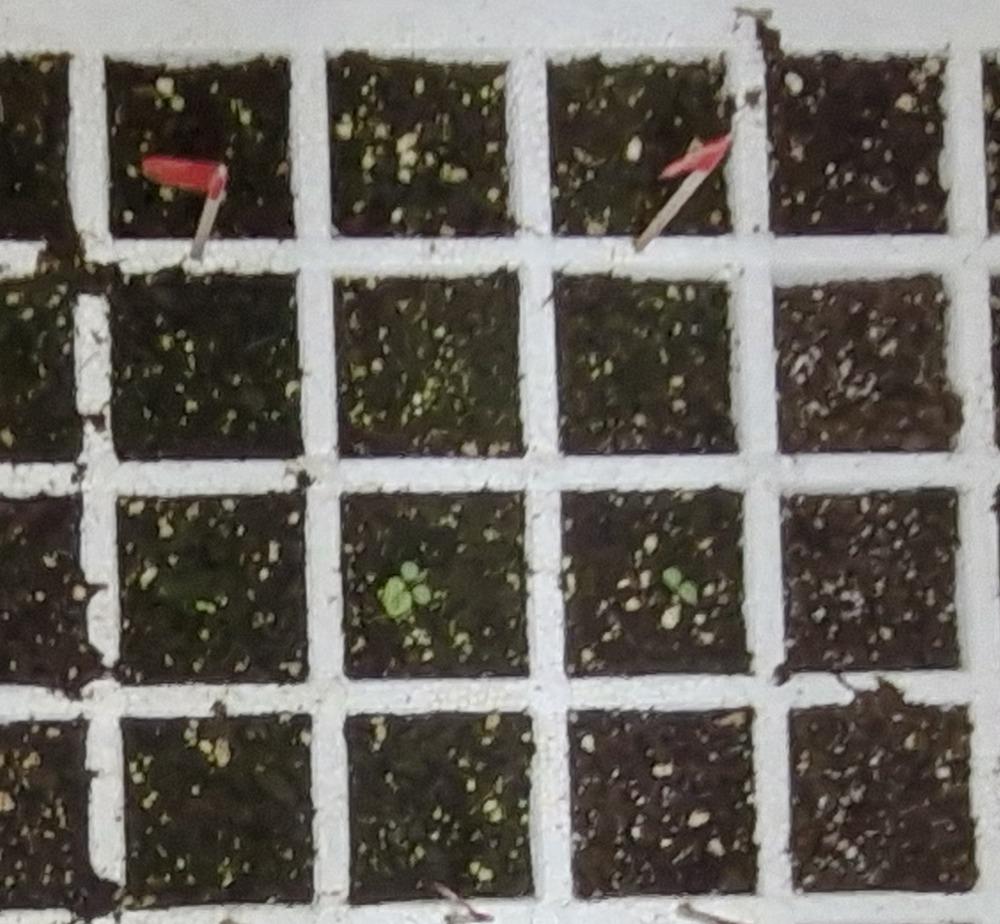Folha: (382, 576, 415, 616), (662, 565, 682, 587), (679, 582, 697, 604), (413, 584, 432, 604), (401, 561, 419, 581), (196, 601, 207, 611)
Germinacao: (381, 561, 431, 620), (661, 568, 699, 604), (194, 601, 217, 615)
